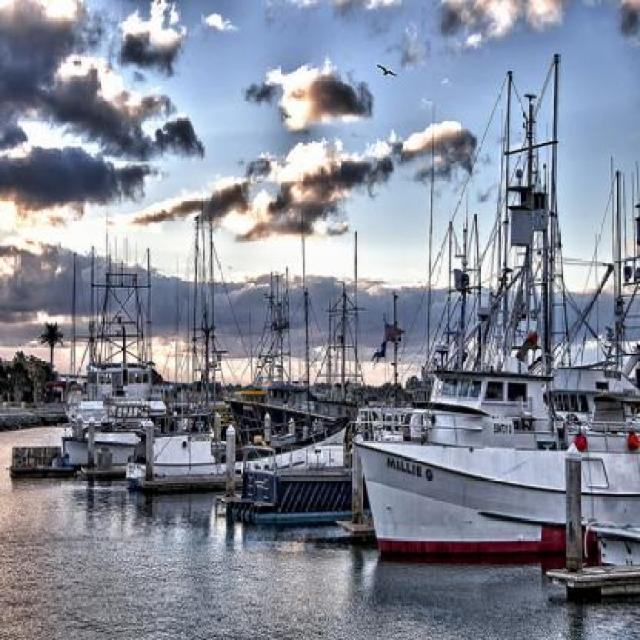ship: (350, 358, 638, 560), (65, 260, 162, 434), (226, 372, 354, 445)
